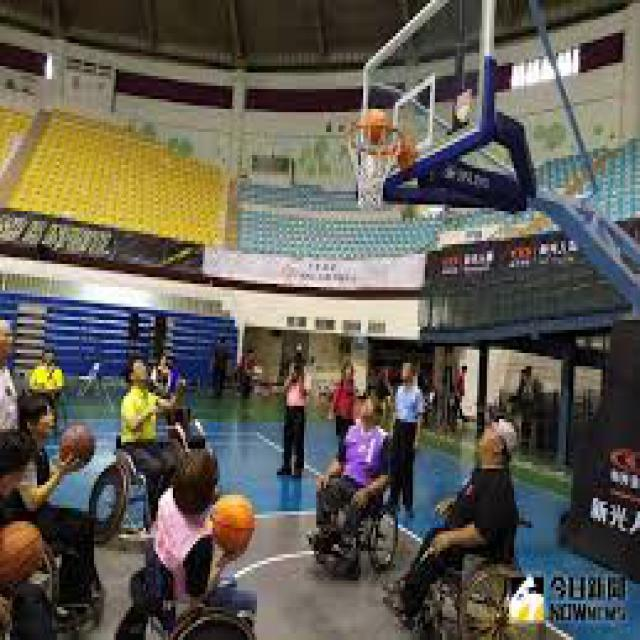wheelchairs: (378, 501, 546, 637), (103, 541, 280, 637), (311, 455, 403, 571), (84, 432, 183, 535)
